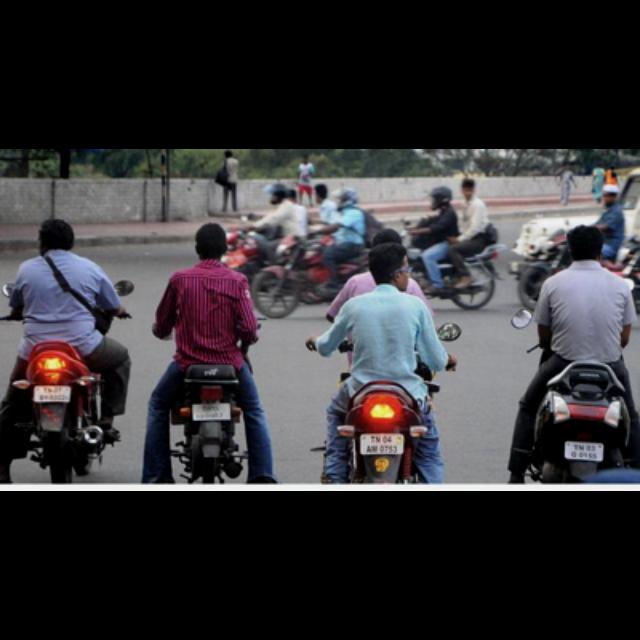With Helmet: (393, 181, 422, 207)
Without Helmet: (521, 214, 563, 260), (32, 208, 74, 252)
